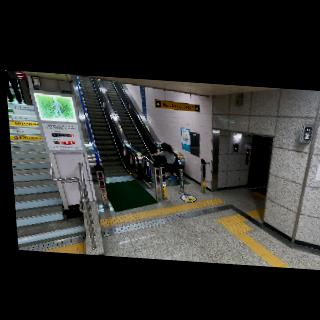normal: (148, 140, 184, 184)
